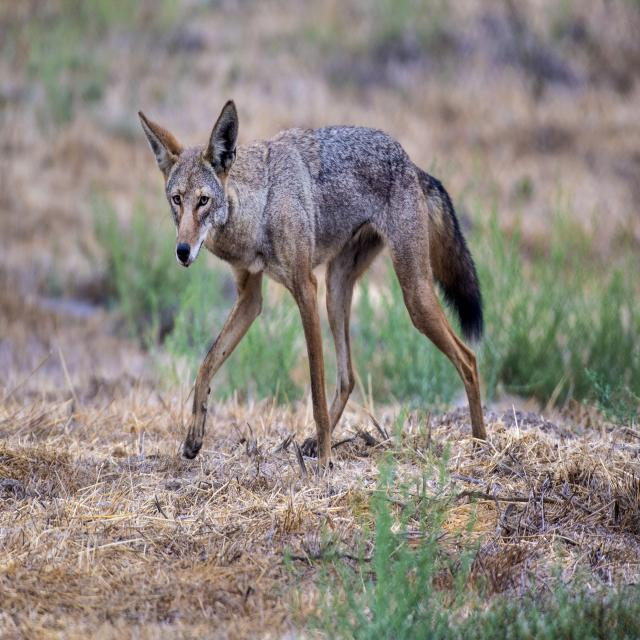Coyote: (128, 89, 498, 462)
